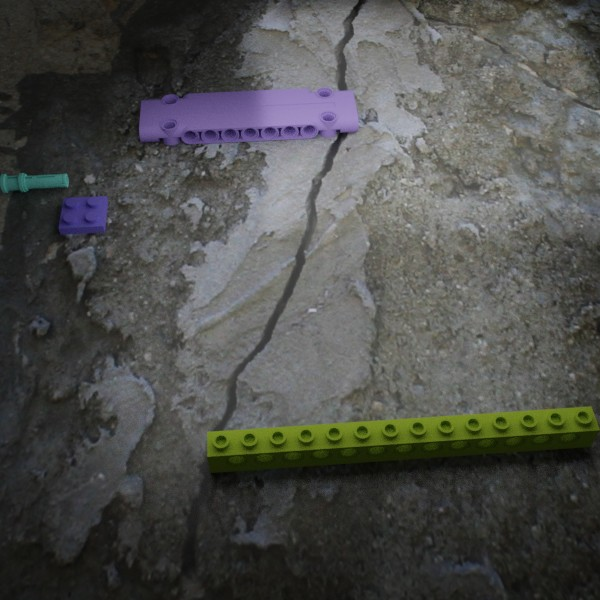lego: (207, 406, 599, 473), (139, 87, 358, 145), (58, 195, 108, 234), (0, 172, 68, 193)
